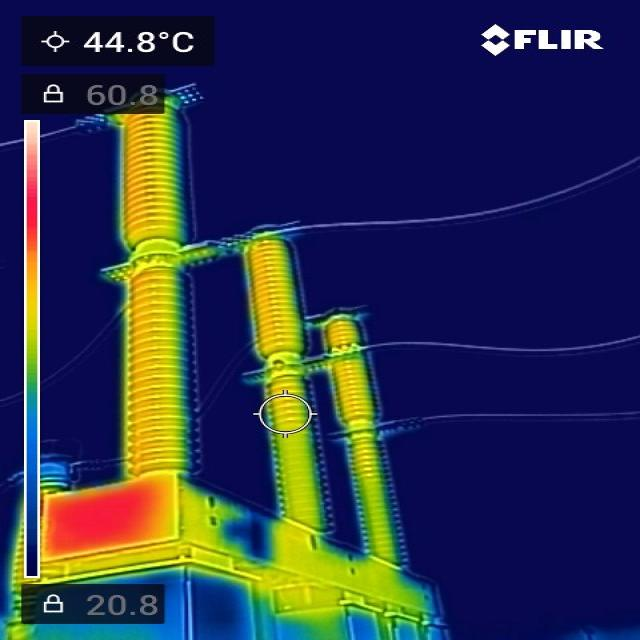Zona_Atenco: (48, 481, 158, 554)
